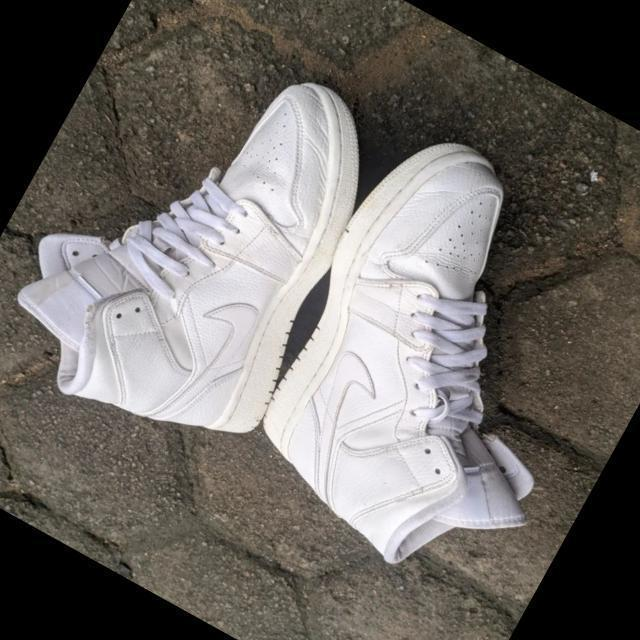nike fake jordan 1: (220, 107, 640, 598), (0, 0, 414, 482)
